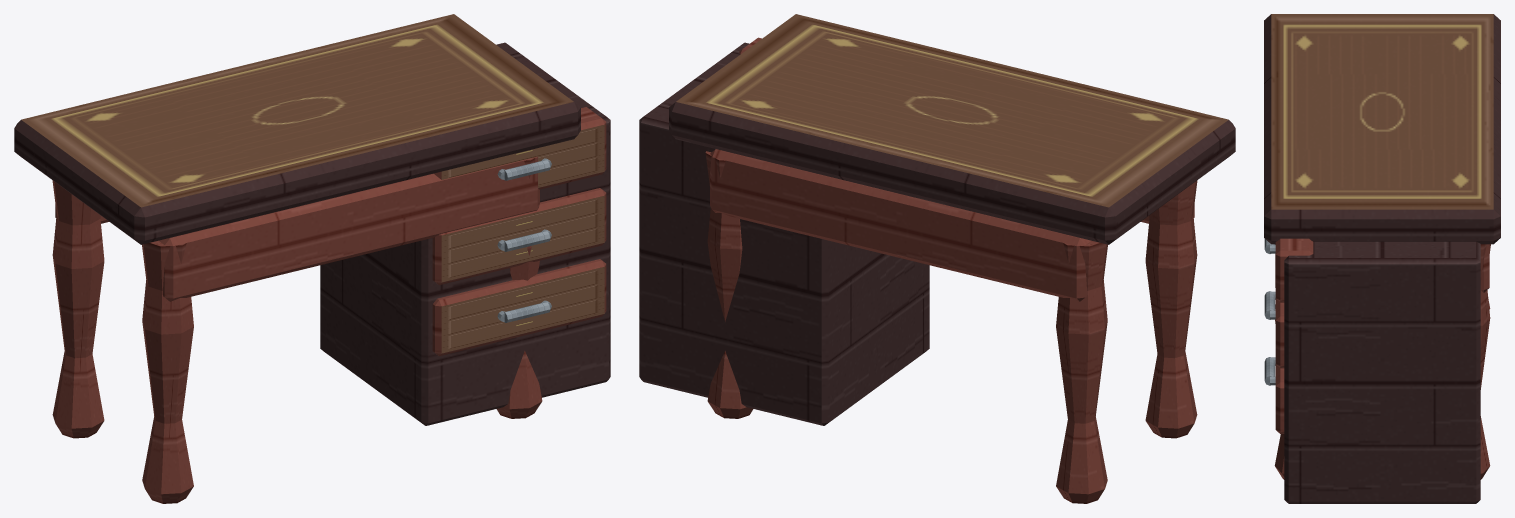
Rendered from MD_77_WritingDesk.fbx.
3 renders of one model, left to right at view 1: azimuth 30°, elevation 25°; view 2: azimuth 150°, elevation 25°; view 3: azimuth 270°, elevation 25°, orthographic. The views are drawn at different scales.
Visible parts, largest first — view 1: MD_77_WritingDesk_thick_inlaid_top, MD_77_WritingDesk_desk_pedestal, MD_77_WritingDesk_carved_apron, MD_77_WritingDesk_turned_leg.001, MD_77_WritingDesk_turned_leg, MD_77_WritingDesk_desk_drawer, MD_77_WritingDesk_desk_drawer.001, MD_77_WritingDesk_desk_drawer.002, MD_77_WritingDesk_turned_leg.002; view 2: MD_77_WritingDesk_thick_inlaid_top, MD_77_WritingDesk_desk_pedestal, MD_77_WritingDesk_carved_apron.001, MD_77_WritingDesk_turned_leg, MD_77_WritingDesk_turned_leg.001, MD_77_WritingDesk_turned_leg.003; view 3: MD_77_WritingDesk_thick_inlaid_top, MD_77_WritingDesk_desk_pedestal, MD_77_WritingDesk_turned_leg.003, MD_77_WritingDesk_desk_drawer.002, MD_77_WritingDesk_desk_drawer.001, MD_77_WritingDesk_desk_drawer, MD_77_WritingDesk_carved_apron.001, MD_77_WritingDesk_turned_leg.002.
Part boxes in pixels (x1,y1,x2,y2): MD_77_WritingDesk_thick_inlaid_top: (14, 14, 580, 244); MD_77_WritingDesk_desk_pedestal: (320, 42, 610, 425); MD_77_WritingDesk_carved_apron: (159, 156, 539, 301); MD_77_WritingDesk_turned_leg.001: (52, 180, 104, 438); MD_77_WritingDesk_turned_leg: (142, 240, 193, 503); MD_77_WritingDesk_desk_drawer: (432, 259, 606, 356); MD_77_WritingDesk_desk_drawer.001: (432, 188, 606, 285); MD_77_WritingDesk_desk_drawer.002: (434, 107, 606, 189); MD_77_WritingDesk_turned_leg.002: (496, 158, 542, 418); MD_77_WritingDesk_thick_inlaid_top: (669, 14, 1235, 244); MD_77_WritingDesk_desk_pedestal: (639, 42, 929, 425); MD_77_WritingDesk_carved_apron.001: (710, 149, 1090, 301); MD_77_WritingDesk_turned_leg: (1145, 180, 1197, 438); MD_77_WritingDesk_turned_leg.001: (1056, 240, 1107, 503); MD_77_WritingDesk_turned_leg.003: (705, 151, 753, 418); MD_77_WritingDesk_thick_inlaid_top: (1264, 14, 1500, 244); MD_77_WritingDesk_desk_pedestal: (1284, 241, 1480, 503); MD_77_WritingDesk_turned_leg.003: (1480, 244, 1490, 479); MD_77_WritingDesk_desk_drawer.002: (1275, 238, 1313, 302); MD_77_WritingDesk_desk_drawer.001: (1275, 298, 1284, 368); MD_77_WritingDesk_desk_drawer: (1275, 364, 1284, 433); MD_77_WritingDesk_carved_apron.001: (1480, 244, 1489, 292); MD_77_WritingDesk_turned_leg.002: (1274, 310, 1284, 479).
Bounding box in the file's own units: 1.36 × 0.83 × 0.62.
Materials: 5 (5 with a texture image).
